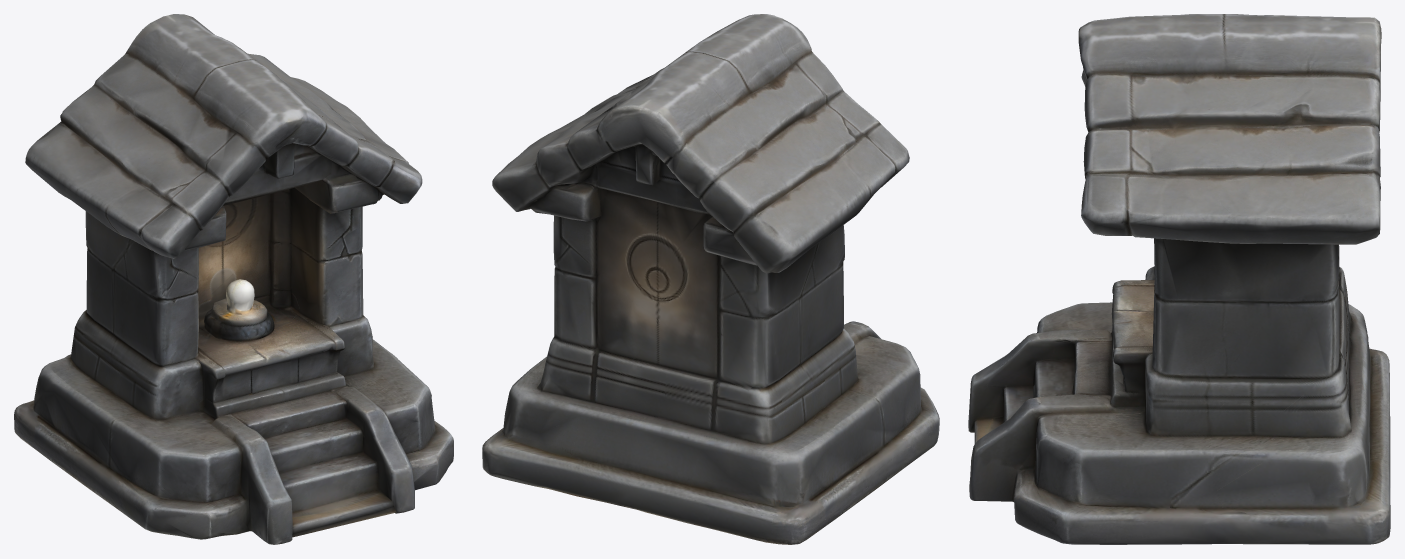
The model's file is temple_neutral.glb.
The picture shows the model from 3 angles, left to right: view 1: azimuth 30°, elevation 25°; view 2: azimuth 150°, elevation 25°; view 3: azimuth 270°, elevation 25°; orthographic projection. The views are drawn at different scales.
Bounding box in the file's own units: 1.68 × 2 × 1.74.
1 material, 1 textured.
